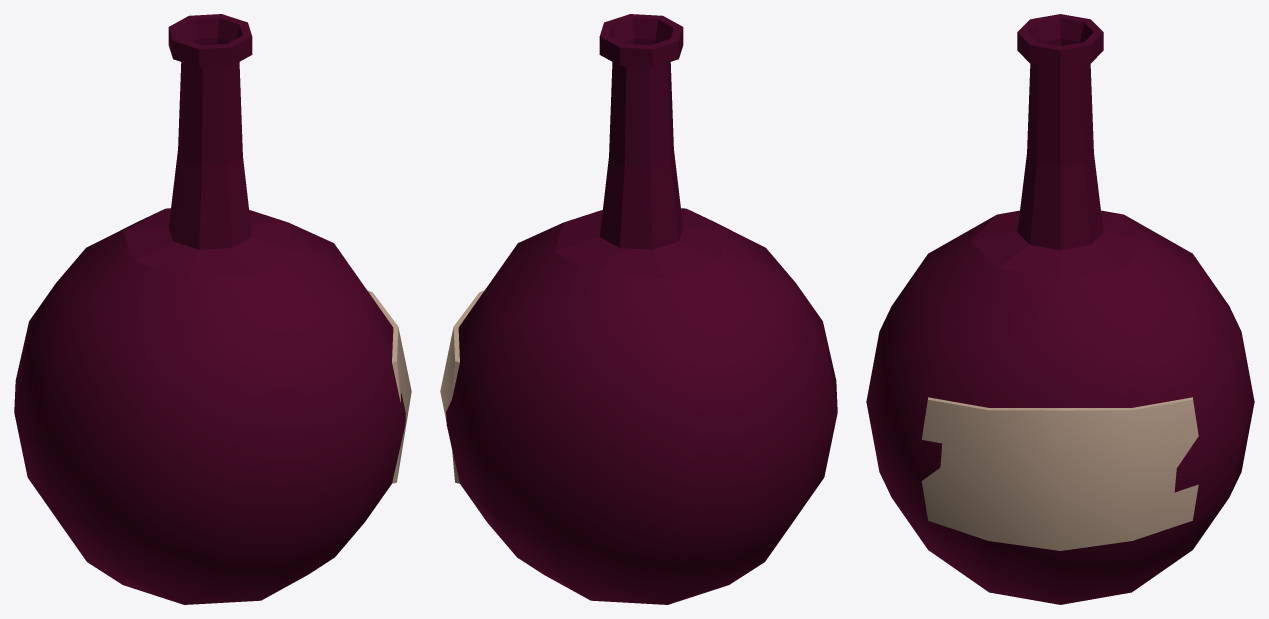
Rendered from art_3dobjects_potion_temp.fbx.
The picture shows the model from 3 angles, left to right: view 1: azimuth 30°, elevation 25°; view 2: azimuth 150°, elevation 25°; view 3: azimuth 270°, elevation 25°; orthographic projection.
Visible parts, largest first — view 1: potion_temp; view 2: potion_temp; view 3: potion_temp.
Part boxes in pixels (x1,y1,x2,y2): potion_temp: (14,14,411,604); potion_temp: (440,14,837,604); potion_temp: (866,14,1254,604).
Size of the model in its own units: 21.25 by 31.54 by 20.94.
